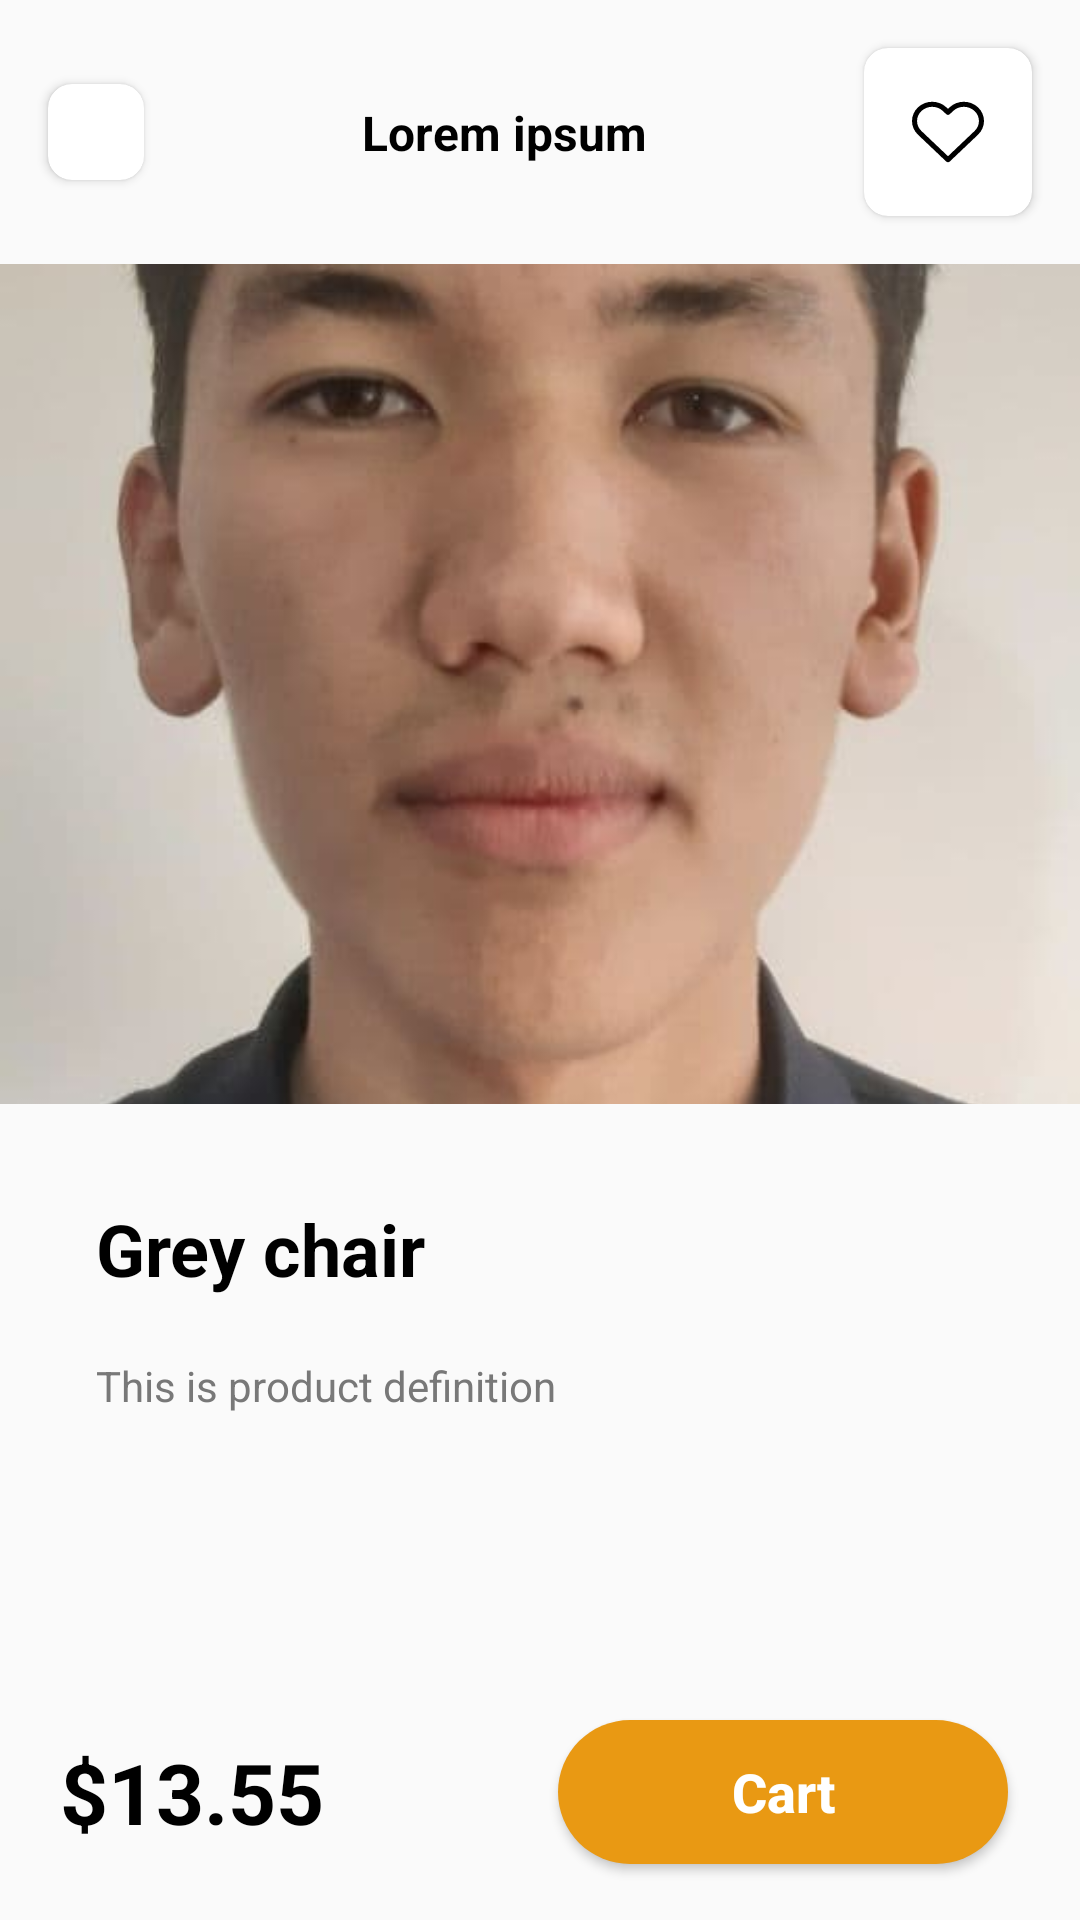

Icon click points for this 1080×1920 phone screenshot, format (x=x, y=y):
love: (x=948, y=132)
